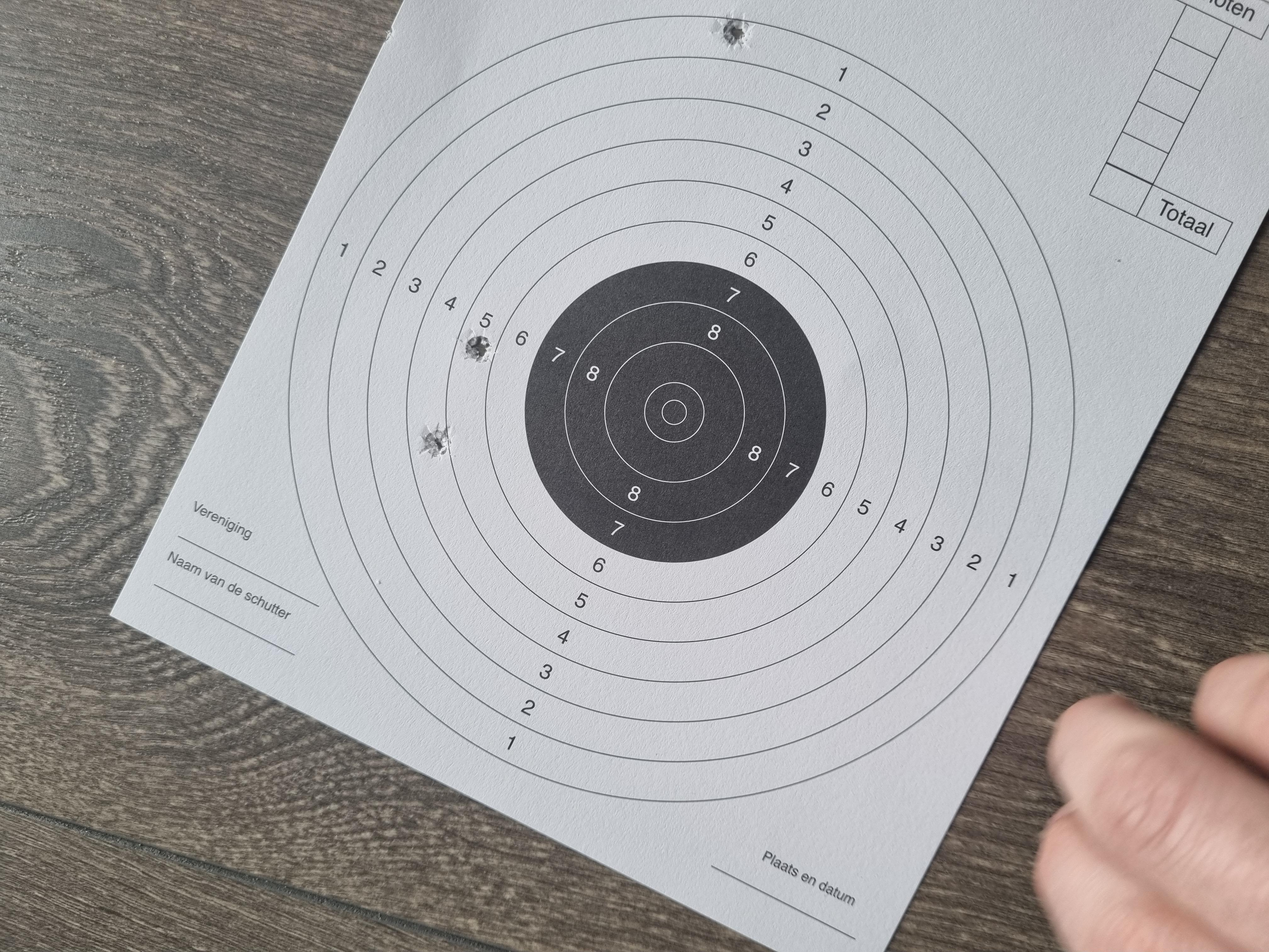hole: (1198, 536, 1249, 568), (658, 314, 703, 338), (785, 347, 822, 370)
